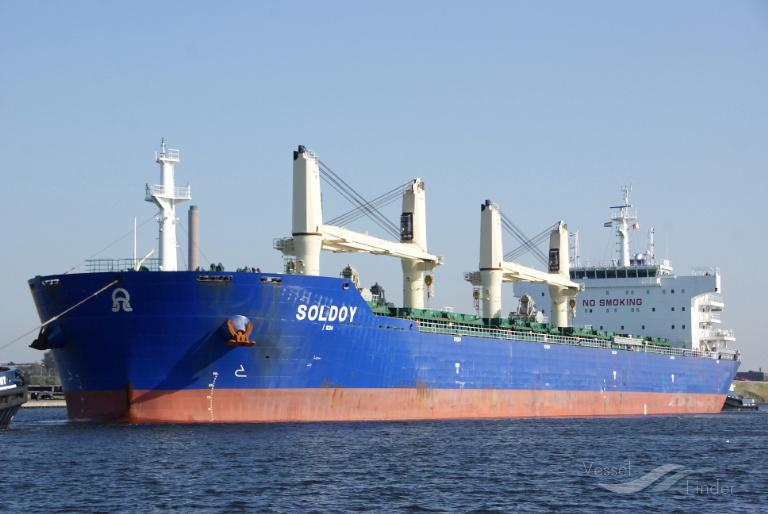OCR: (293, 295, 359, 324)
